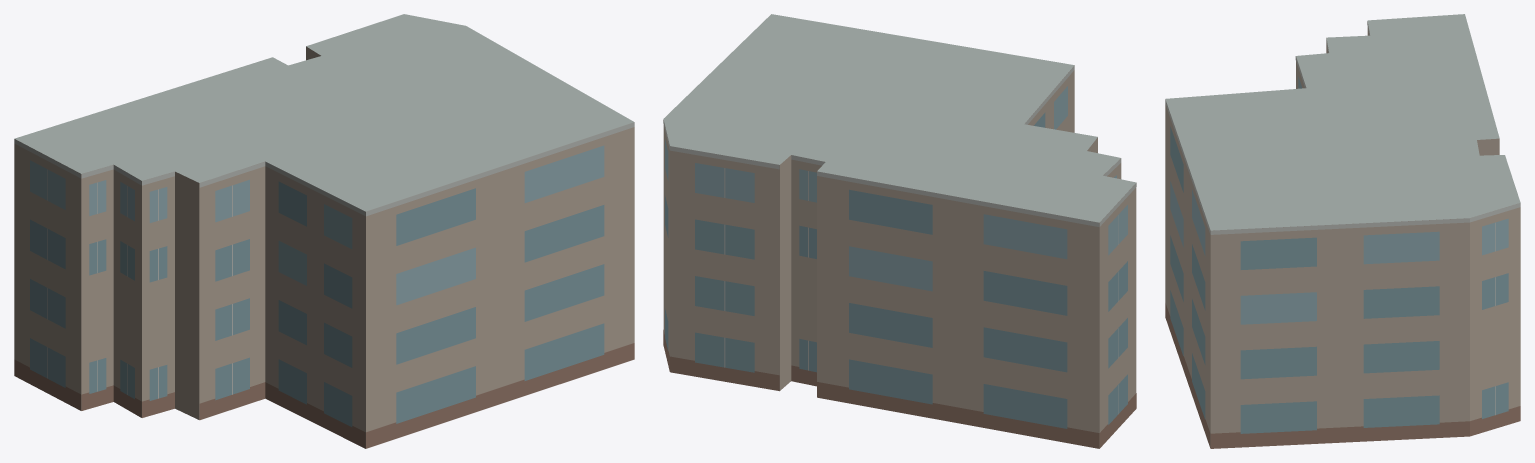
Rendered from survey-upis-32641222.glb.
3 renders of one model, left to right at view 1: azimuth 30°, elevation 25°; view 2: azimuth 150°, elevation 25°; view 3: azimuth 270°, elevation 25°, orthographic. The views are drawn at different scales.
Visible parts, largest first — view 1: survey-upis-32641222.tmp; view 2: survey-upis-32641222.tmp; view 3: survey-upis-32641222.tmp.
Boxes of the visible parts, x1=… form: survey-upis-32641222.tmp: x1=14, y1=14, x2=634, y2=448; survey-upis-32641222.tmp: x1=663, y1=14, x2=1136, y2=448; survey-upis-32641222.tmp: x1=1165, y1=14, x2=1520, y2=448.
Size of the model in its own units: 25.97 by 12.2 by 18.01.
